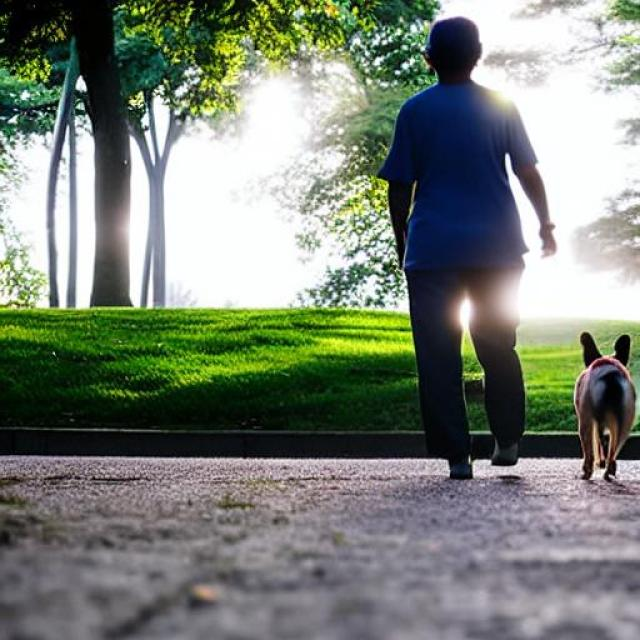Unleashed_Dog: (406, 267, 640, 481)
